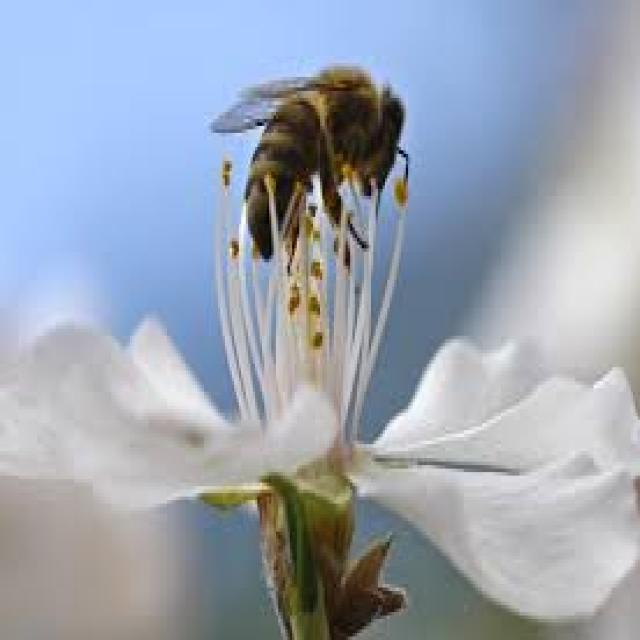Bees: (208, 62, 411, 261)
